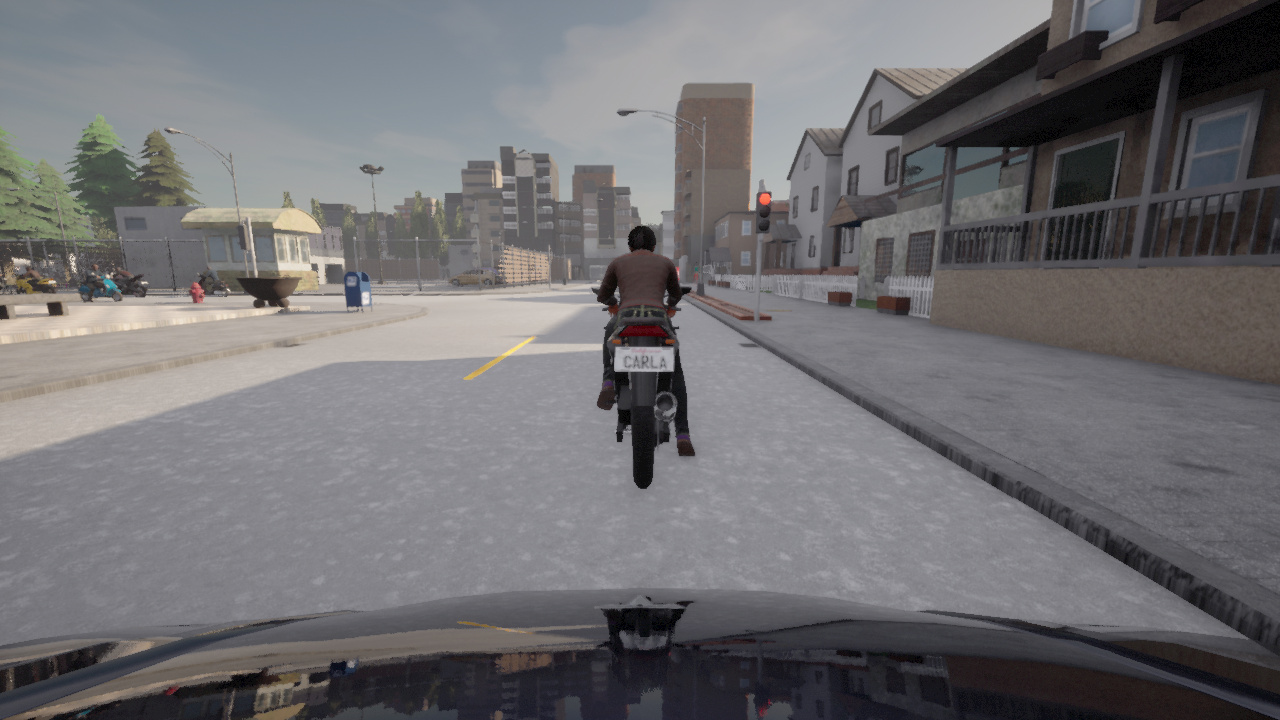cyclist: (0, 588, 1279, 719), (591, 287, 691, 487), (78, 273, 122, 301), (102, 273, 147, 296), (16, 274, 56, 294), (449, 269, 499, 285), (197, 273, 230, 296), (0, 275, 20, 294), (480, 268, 502, 284), (493, 266, 510, 283), (514, 272, 531, 281), (515, 268, 545, 273), (531, 272, 540, 281), (73, 273, 78, 278), (53, 275, 54, 277)
pedestrian: (53, 262, 71, 291), (692, 261, 699, 290)
